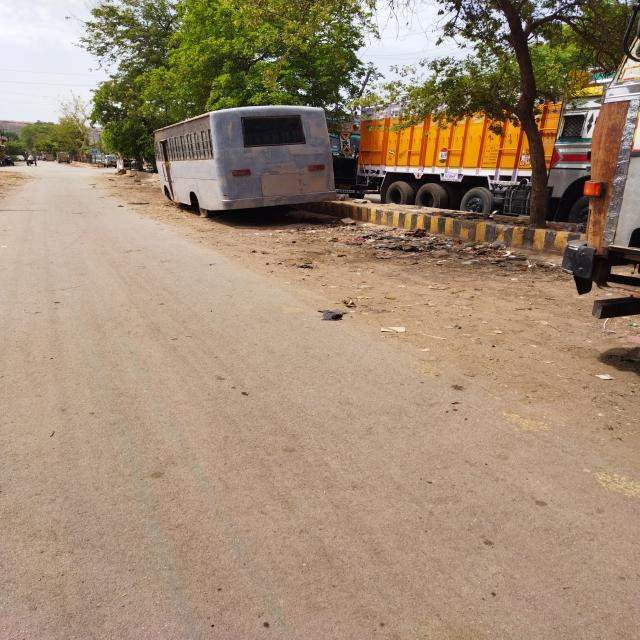Bus: (153, 105, 335, 215)
Truck: (335, 109, 532, 215), (538, 59, 640, 256)
